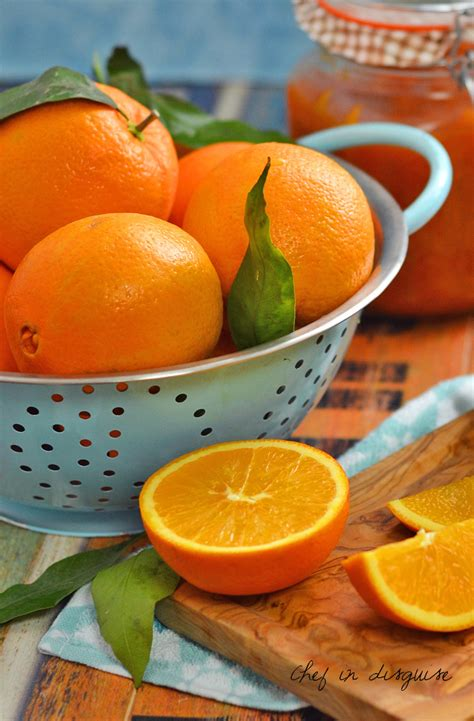orange: (5, 209, 220, 384), (187, 144, 375, 319), (1, 82, 181, 232)
